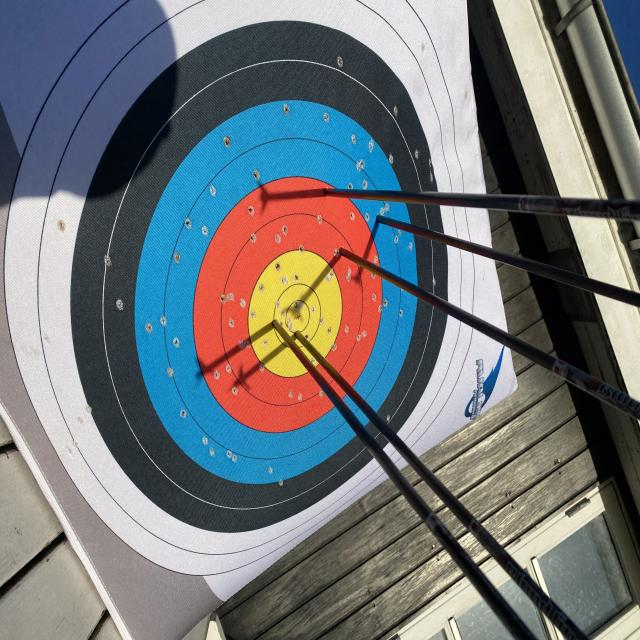Arrow_Blue: (364, 198, 410, 241)
Arrow_Red: (322, 236, 366, 277), (307, 164, 338, 220)
Arrow_Yellow: (292, 313, 330, 366), (258, 308, 291, 351)
